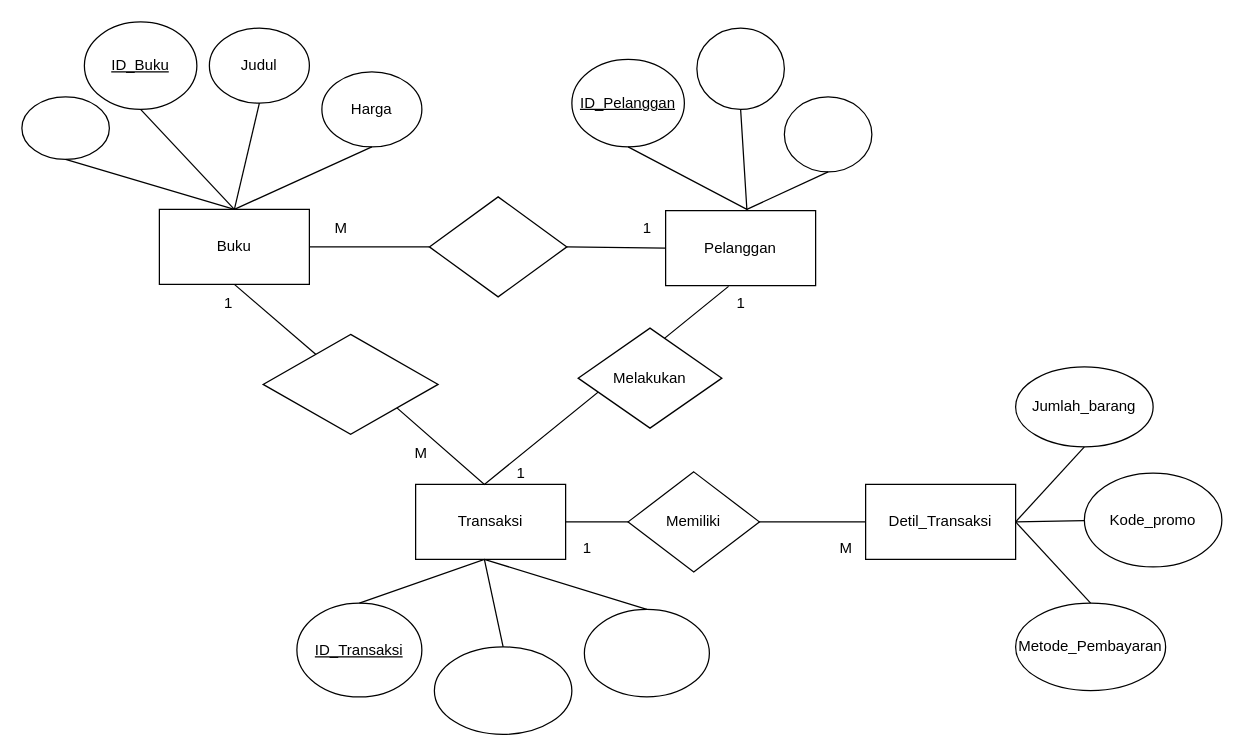
Image size: 1244x756. Some labels were removed from this diagram. Each missing label, with the box of its shape:
Alamat: (783, 96, 872, 172)
Melibatkan: (262, 333, 438, 434)
Membeli: (428, 196, 567, 297)
Nama: (696, 27, 784, 109)
Stok: (21, 96, 109, 159)
Tanggal_Transaksi: (433, 646, 572, 734)
Total_harga: (583, 608, 709, 697)
